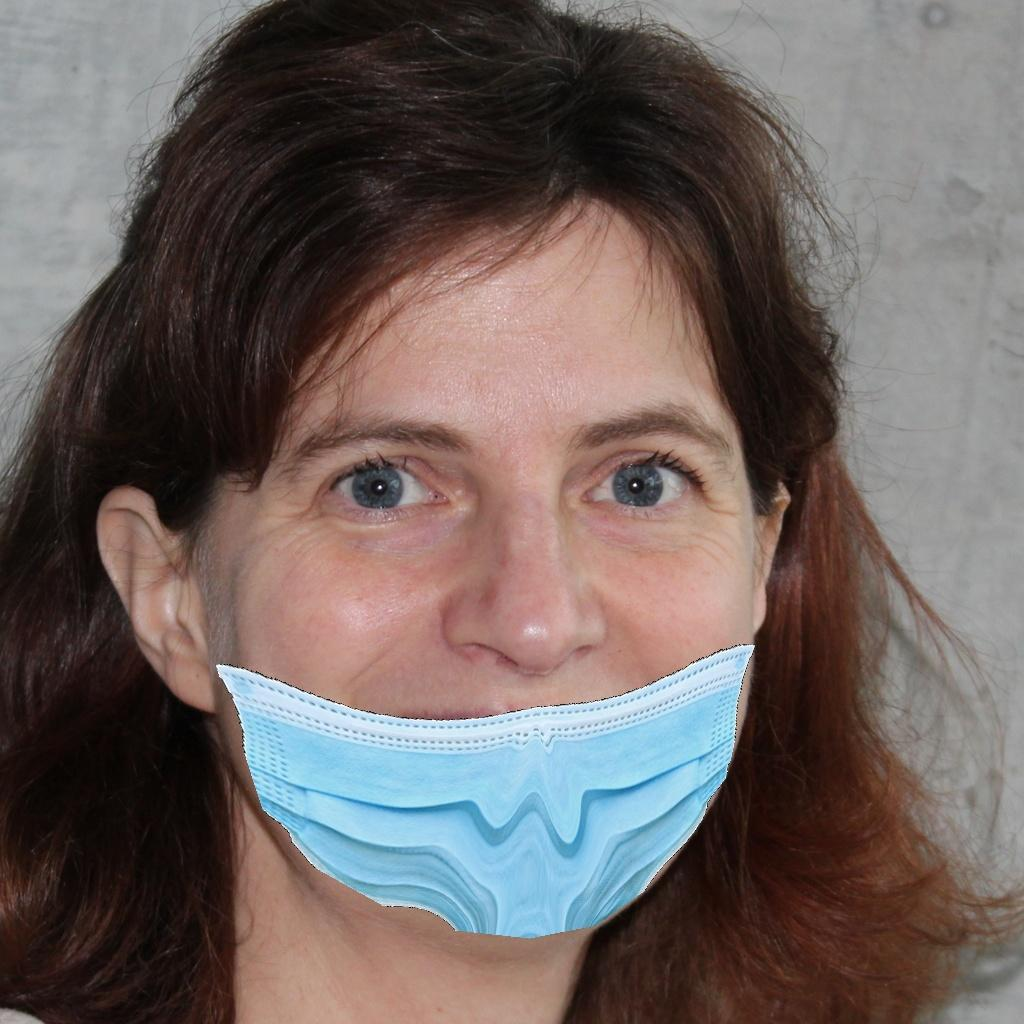Máscara Incorreta: (198, 299, 768, 924)
